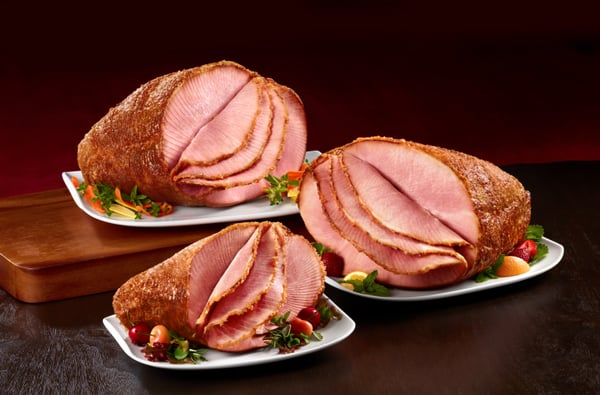soup: (297, 135, 542, 291), (74, 60, 308, 220), (111, 220, 328, 359)
